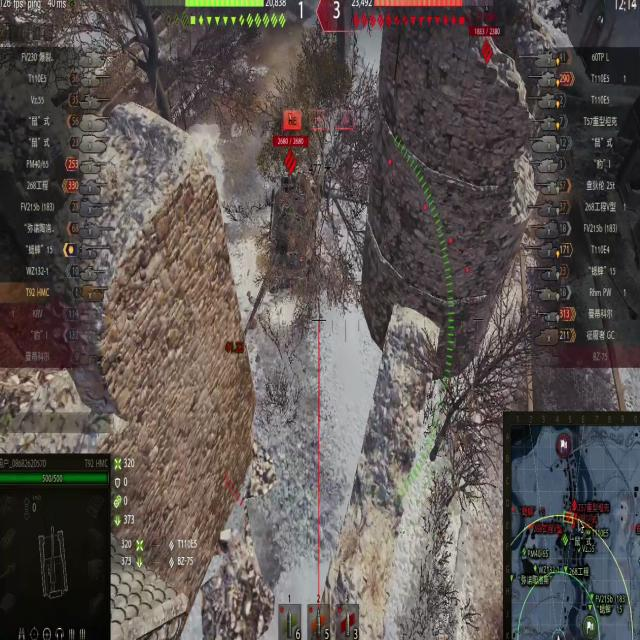tank: (262, 125, 320, 297)
